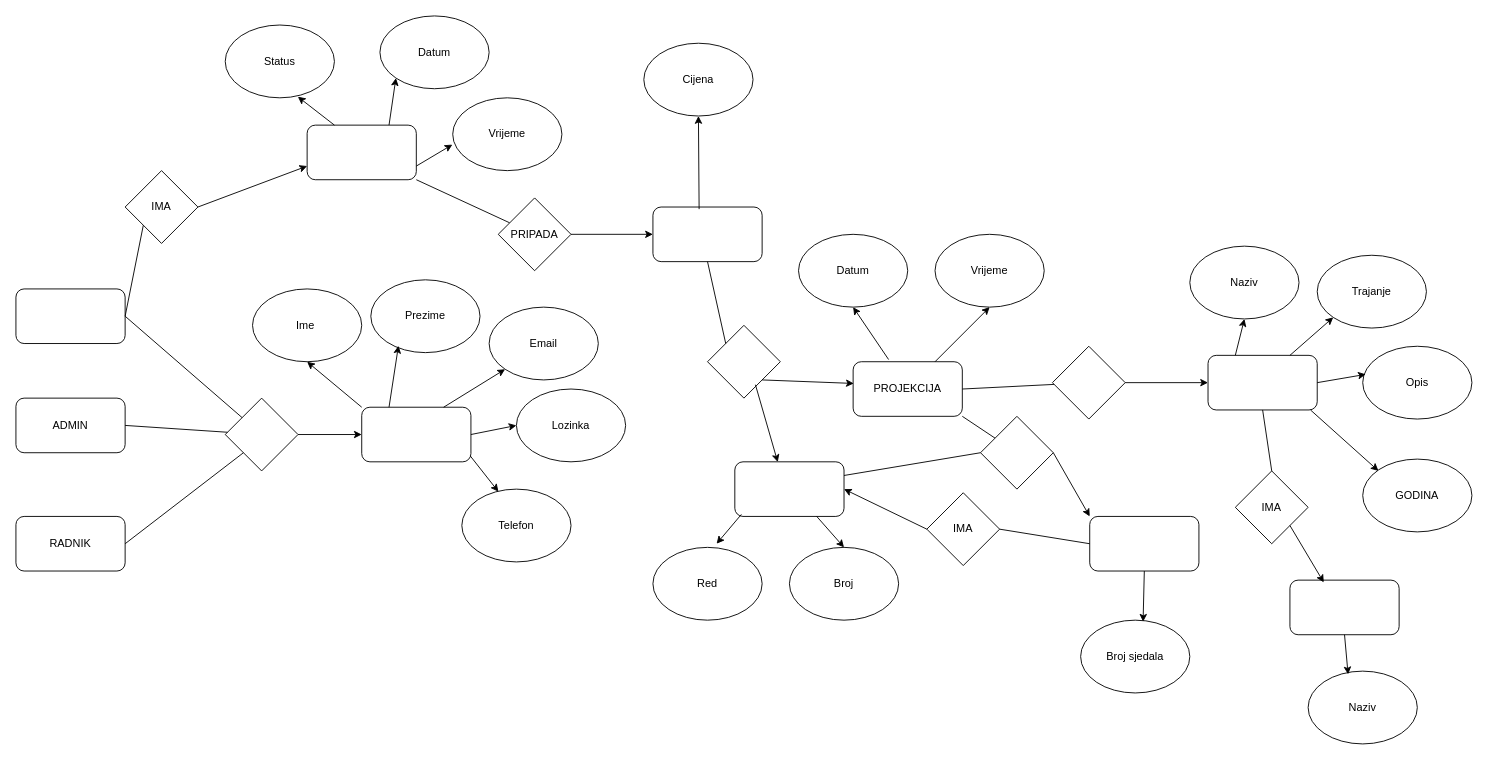
Image size: 1488x760. Some labels were removed from this diagram. The shapes that lost their labels are listed below. From the top down, each one's centre as x and y in pixels, then its label:
[361,152]: REZERVACIJA
[707,234]: KARTA
[70,316]: POSJETITELJ
[743,361]: JE ZA
[1088,382]: SADRŽI
[1262,382]: FIILM
[261,434]: JE
[416,434]: OSOBA
[1016,452]: JE U
[789,488]: SJEDALO
[1144,543]: DVORANA
[1344,607]: ŽANR
